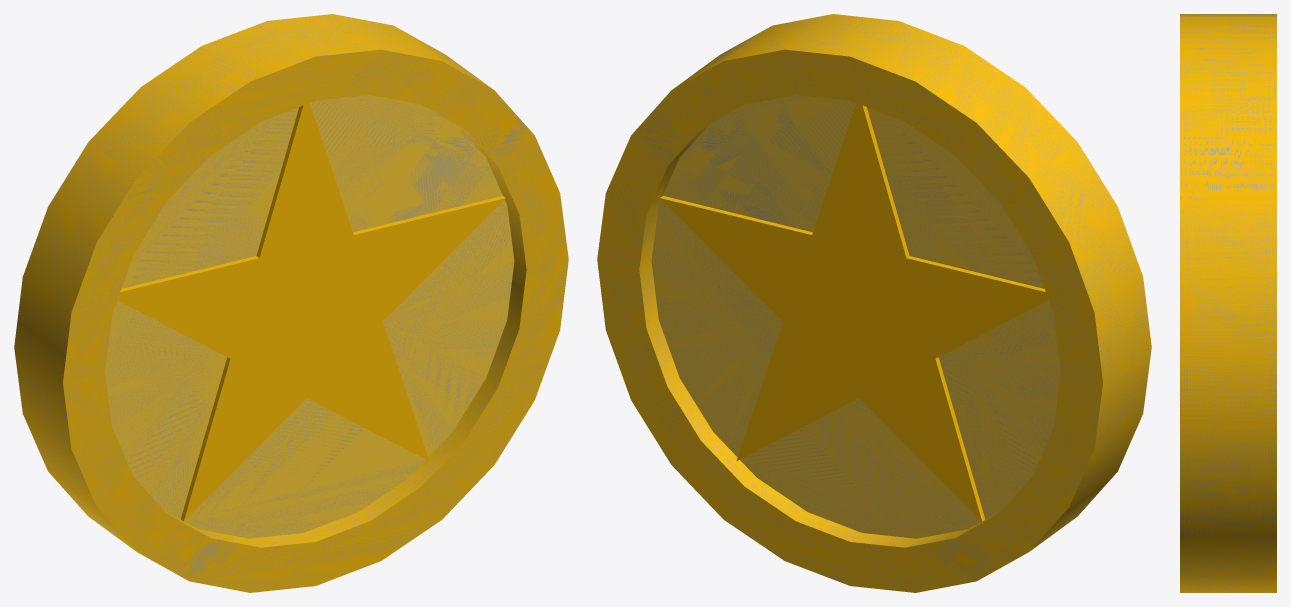
The picture shows the model from 3 angles, left to right: view 1: azimuth 30°, elevation 25°; view 2: azimuth 150°, elevation 25°; view 3: azimuth 270°, elevation 25°; orthographic projection.
Visible parts, largest first — view 1: cylinder (×4); view 2: cylinder (×4); view 3: cylinder.
Boxes of the visible parts, x1,y1,x2,y2 form: cylinder (×4): (14, 14, 568, 592); cylinder (×4): (597, 14, 1151, 592); cylinder: (1180, 14, 1276, 592).
Bounding box in the file's own units: 12 × 2 × 12.
